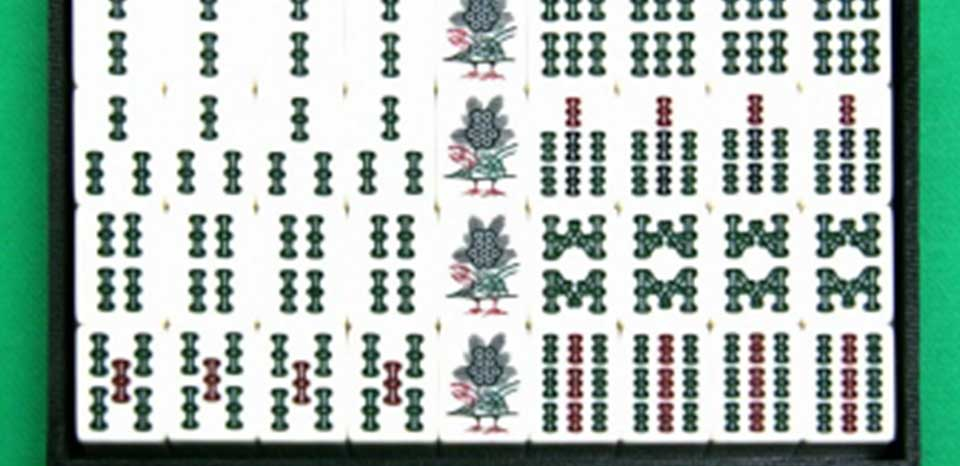sou_1: (441, 203, 531, 320)
sou_3: (75, 79, 168, 206)
sou_4: (166, 204, 263, 328)
sou_5: (254, 326, 350, 442)
sou_7: (527, 87, 616, 201)
sou_8: (622, 203, 715, 322)
sou_9: (713, 326, 804, 440)
